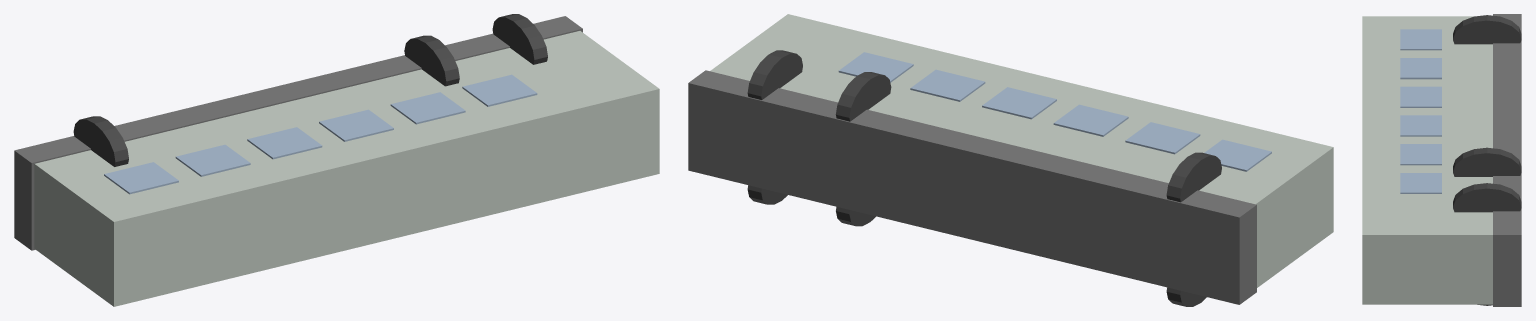
Rendered from curated_city_bus.glb.
3 renders of one model, left to right at view 1: azimuth 30°, elevation 25°; view 2: azimuth 150°, elevation 25°; view 3: azimuth 270°, elevation 25°, orthographic. The views are drawn at different scales.
Visible parts, largest first — view 1: geometry_0; view 2: geometry_0; view 3: geometry_0.
Part boxes in pixels (left/top/right/bottom): geometry_0: left=14, top=14, right=659, bottom=306; geometry_0: left=688, top=14, right=1333, bottom=306; geometry_0: left=1362, top=14, right=1521, bottom=306.
Size of the model in its own units: 10.5 by 2.6 by 3.2.
